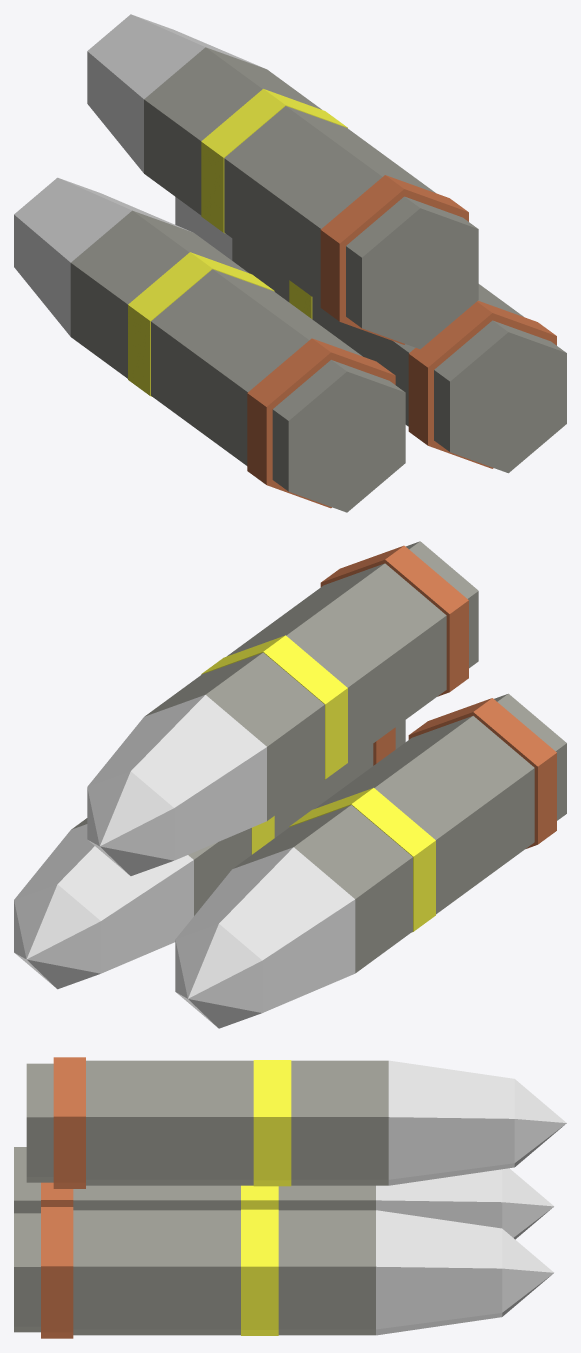
The model's file is ce_ammo_artillery_smk_b.obj.
3 views of the same model, one above another, from view 1: azimuth 30°, elevation 25°; view 2: azimuth 150°, elevation 25°; view 3: azimuth 270°, elevation 25° (orthographic). The views are drawn at different scales.
Visible parts, largest first — view 1: ce_ammo_artillery_smk_b_16, ce_ammo_artillery_smk_b_2, ce_ammo_artillery_smk_b_0, ce_ammo_artillery_smk_b_7, ce_ammo_artillery_smk_b_14, ce_ammo_artillery_smk_b_18, ce_ammo_artillery_smk_b_4, ce_ammo_artillery_smk_b_5, ce_ammo_artillery_smk_b_19, ce_ammo_artillery_smk_b_1, ce_ammo_artillery_smk_b_15, ce_ammo_artillery_smk_b_8 (+5 smaller); view 2: ce_ammo_artillery_smk_b_16, ce_ammo_artillery_smk_b_2, ce_ammo_artillery_smk_b_5, ce_ammo_artillery_smk_b_19, ce_ammo_artillery_smk_b_12, ce_ammo_artillery_smk_b_18, ce_ammo_artillery_smk_b_4, ce_ammo_artillery_smk_b_6, ce_ammo_artillery_smk_b_20, ce_ammo_artillery_smk_b_13, ce_ammo_artillery_smk_b_1, ce_ammo_artillery_smk_b_15 (+6 smaller); view 3: ce_ammo_artillery_smk_b_9, ce_ammo_artillery_smk_b_16, ce_ammo_artillery_smk_b_19, ce_ammo_artillery_smk_b_12, ce_ammo_artillery_smk_b_18, ce_ammo_artillery_smk_b_11, ce_ammo_artillery_smk_b_5, ce_ammo_artillery_smk_b_17, ce_ammo_artillery_smk_b_10, ce_ammo_artillery_smk_b_8, ce_ammo_artillery_smk_b_15, ce_ammo_artillery_smk_b_2 (+9 smaller).
Boxes of the visible parts, x1=… form: ce_ammo_artillery_smk_b_16: x1=224, y1=106, x2=435, y2=302; ce_ammo_artillery_smk_b_2: x1=151, y1=269, x2=362, y2=465; ce_ammo_artillery_smk_b_0: x1=272, y1=360, x2=405, y2=512; ce_ammo_artillery_smk_b_7: x1=434, y1=320, x2=566, y2=473; ce_ammo_artillery_smk_b_14: x1=346, y1=196, x2=478, y2=349; ce_ammo_artillery_smk_b_18: x1=144, y1=47, x2=321, y2=215; ce_ammo_artillery_smk_b_4: x1=70, y1=210, x2=248, y2=378; ce_ammo_artillery_smk_b_5: x1=14, y1=177, x2=190, y2=336; ce_ammo_artillery_smk_b_19: x1=87, y1=14, x2=264, y2=172; ce_ammo_artillery_smk_b_1: x1=247, y1=338, x2=395, y2=508; ce_ammo_artillery_smk_b_15: x1=320, y1=175, x2=468, y2=344; ce_ammo_artillery_smk_b_8: x1=408, y1=300, x2=556, y2=468; ce_ammo_artillery_smk_b_16: x1=227, y1=563, x2=446, y2=761; ce_ammo_artillery_smk_b_2: x1=315, y1=716, x2=534, y2=914; ce_ammo_artillery_smk_b_5: x1=176, y1=847, x2=355, y2=1012; ce_ammo_artillery_smk_b_19: x1=88, y1=695, x2=266, y2=860; ce_ammo_artillery_smk_b_12: x1=14, y1=824, x2=193, y2=973; ce_ammo_artillery_smk_b_18: x1=145, y1=652, x2=324, y2=820; ce_ammo_artillery_smk_b_4: x1=233, y1=805, x2=412, y2=973; ce_ammo_artillery_smk_b_6: x1=175, y1=923, x2=262, y2=1028; ce_ammo_artillery_smk_b_20: x1=87, y1=771, x2=174, y2=875; ce_ammo_artillery_smk_b_13: x1=14, y1=884, x2=100, y2=989; ce_ammo_artillery_smk_b_1: x1=408, y1=698, x2=556, y2=848; ce_ammo_artillery_smk_b_15: x1=320, y1=545, x2=468, y2=696; ce_ammo_artillery_smk_b_9: x1=73, y1=1210, x2=240, y2=1335; ce_ammo_artillery_smk_b_16: x1=86, y1=1060, x2=253, y2=1185; ce_ammo_artillery_smk_b_19: x1=388, y1=1060, x2=514, y2=1185; ce_ammo_artillery_smk_b_12: x1=376, y1=1210, x2=502, y2=1335; ce_ammo_artillery_smk_b_18: x1=291, y1=1060, x2=388, y2=1185; ce_ammo_artillery_smk_b_11: x1=278, y1=1210, x2=375, y2=1335; ce_ammo_artillery_smk_b_5: x1=376, y1=1169, x2=502, y2=1228; ce_ammo_artillery_smk_b_17: x1=253, y1=1060, x2=291, y2=1186; ce_ammo_artillery_smk_b_10: x1=241, y1=1209, x2=278, y2=1335; ce_ammo_artillery_smk_b_8: x1=41, y1=1207, x2=73, y2=1338; ce_ammo_artillery_smk_b_15: x1=53, y1=1057, x2=85, y2=1188; ce_ammo_artillery_smk_b_2: x1=73, y1=1185, x2=240, y2=1210.
Bounding box in the file's own units: 0.45 × 0.4355 × 0.88.
